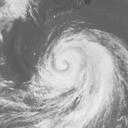cyclone: (35, 38, 89, 91)
